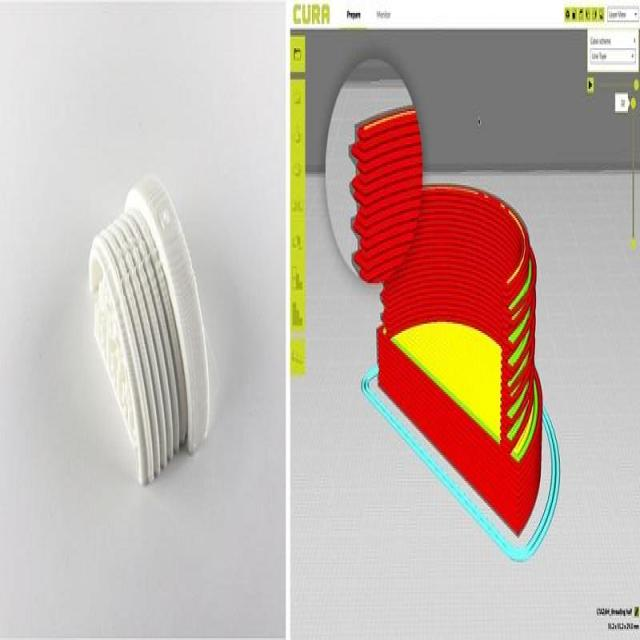Without deffect: (78, 155, 211, 513)
